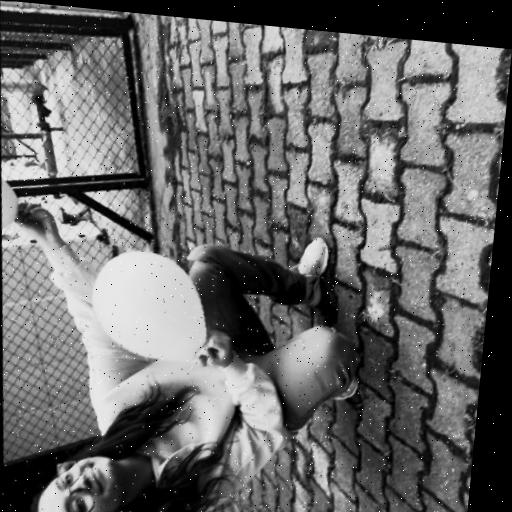balloon: (75, 242, 219, 369)
